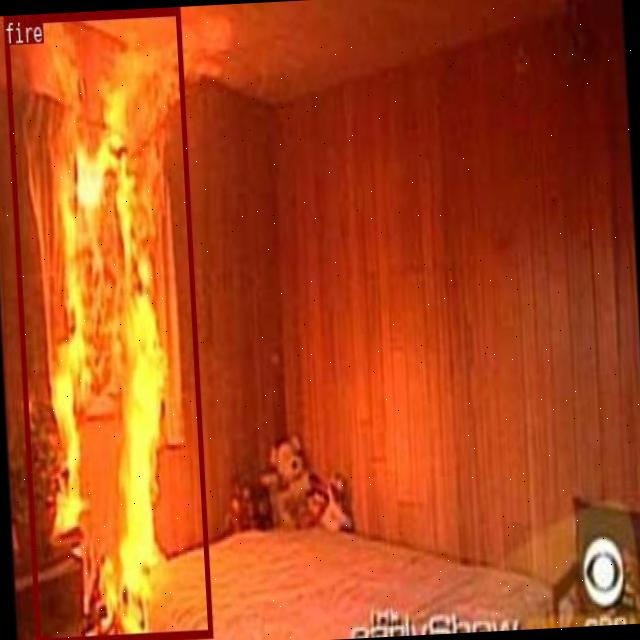fire: (2, 7, 212, 640)
